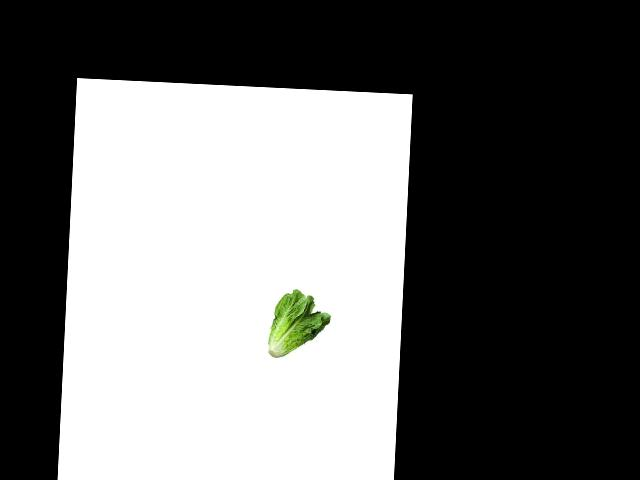lettuce: (264, 288, 335, 358)
